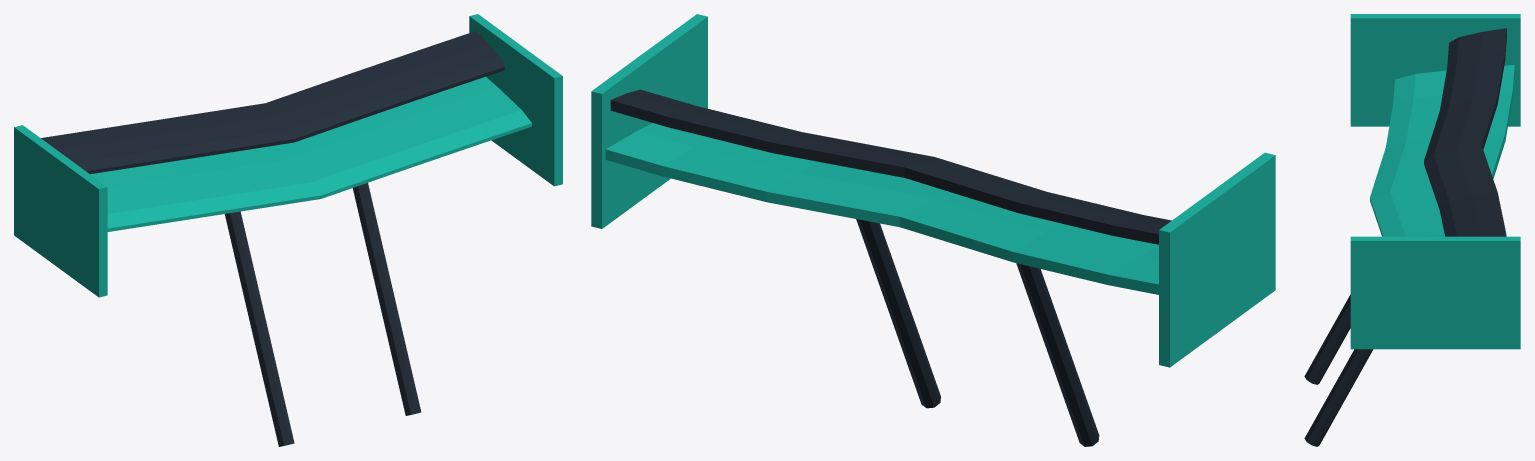
The model's file is split.glb.
The picture shows the model from 3 angles, left to right: view 1: azimuth 30°, elevation 25°; view 2: azimuth 150°, elevation 25°; view 3: azimuth 270°, elevation 25°; orthographic projection. The views are drawn at different scales.
Visible parts, largest first — view 1: RearWing; view 2: RearWing; view 3: RearWing.
Part boxes in pixels (left/top/right/bottom): RearWing: left=14, top=14, right=562, bottom=446; RearWing: left=591, top=14, right=1275, bottom=446; RearWing: left=1304, top=14, right=1520, bottom=446.
Bounding box in the file's own units: 1.39 × 0.82 × 0.5596.
